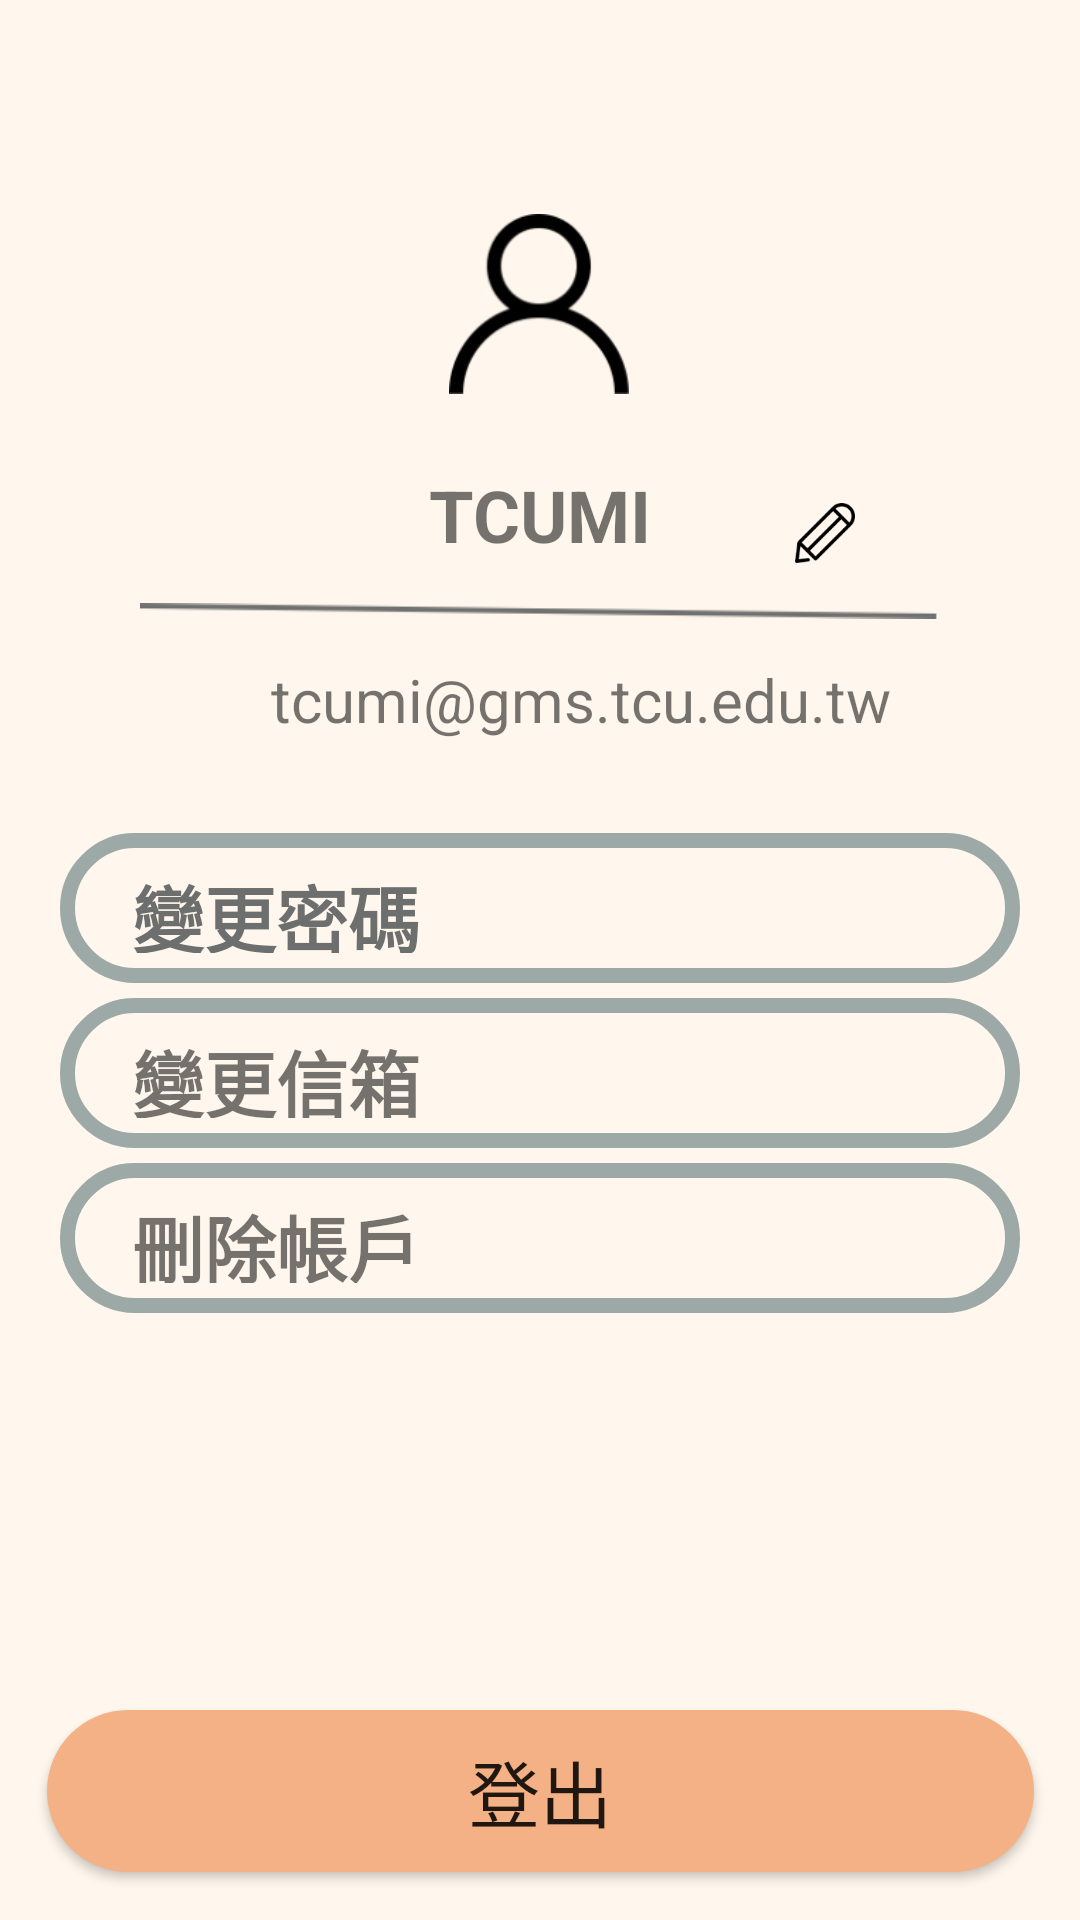

Where to tap for icons on this 1080px×1920px app screen, as (x=x, y=y):
edit: (x=825, y=533)
user: (x=539, y=304)
